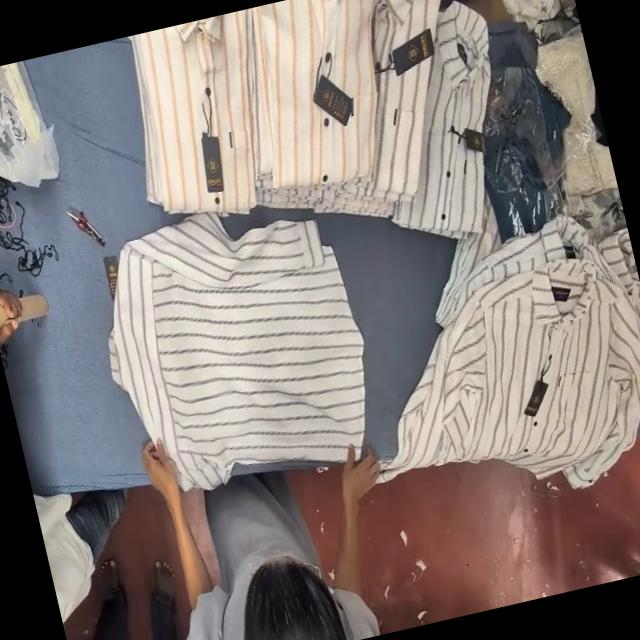new-garment: (108, 213, 364, 488)
